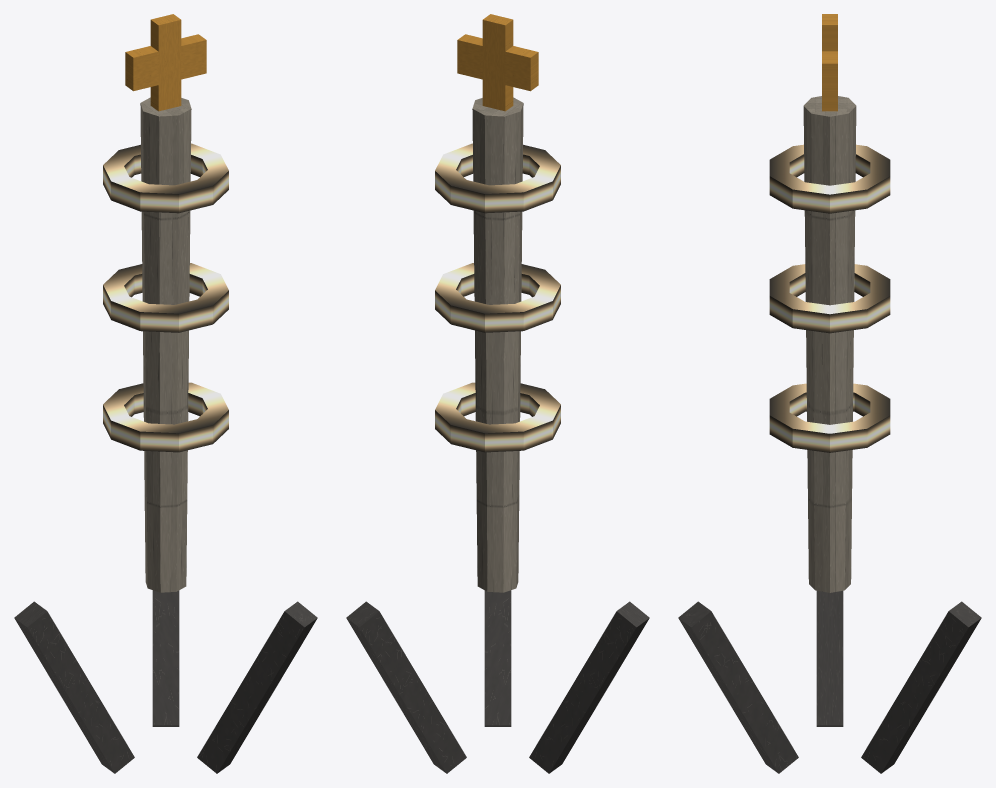
Rendered from dep_medbeacon.obj.
The picture shows the model from 3 angles, left to right: view 1: azimuth 30°, elevation 25°; view 2: azimuth 150°, elevation 25°; view 3: azimuth 270°, elevation 25°; orthographic projection.
Parts seen in each view (by area): view 1: dep_medbeacon; view 2: dep_medbeacon; view 3: dep_medbeacon.
Boxes of the visible parts, x1,y1,x2,y2 form: dep_medbeacon: (14, 14, 317, 773); dep_medbeacon: (346, 14, 649, 773); dep_medbeacon: (678, 14, 981, 773).
Size of the model in its own units: 0.4984 by 1.54 by 0.5754.
Materials: 1 (1 with a texture image).
